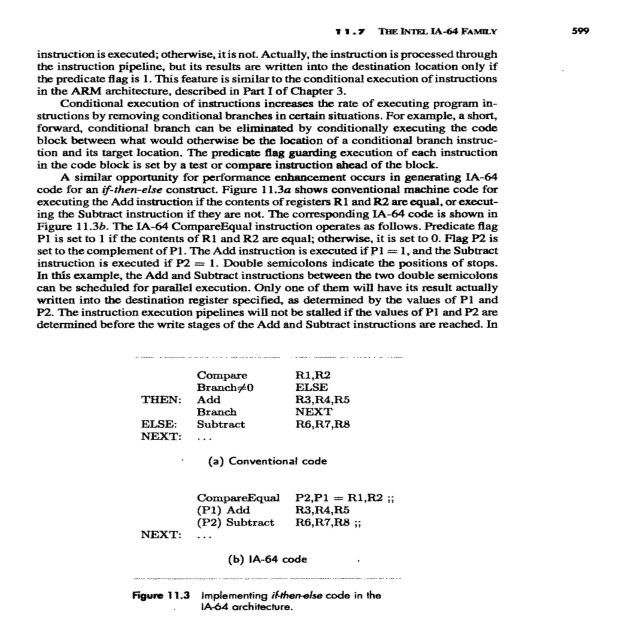diagram: (66, 349, 467, 620)
